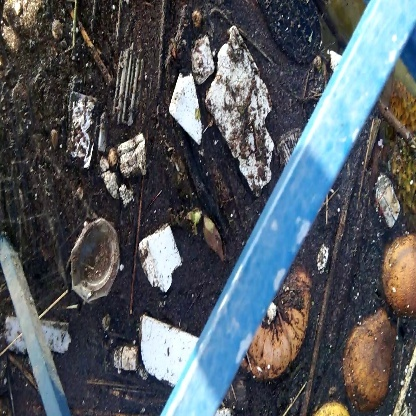plastic-garbage: (204, 31, 279, 191)
